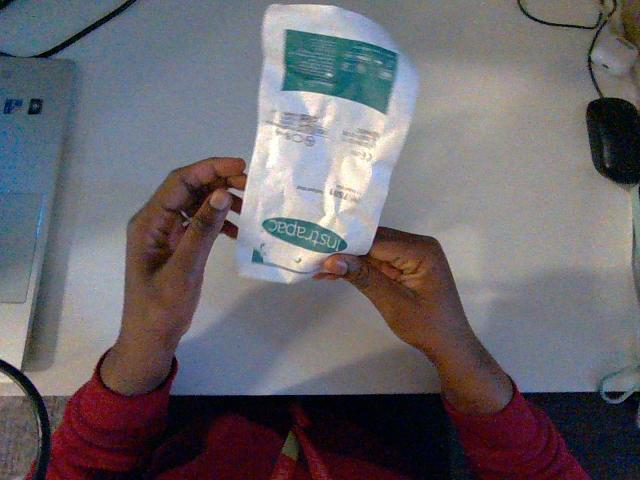gallipot: (236, 5, 417, 282)
